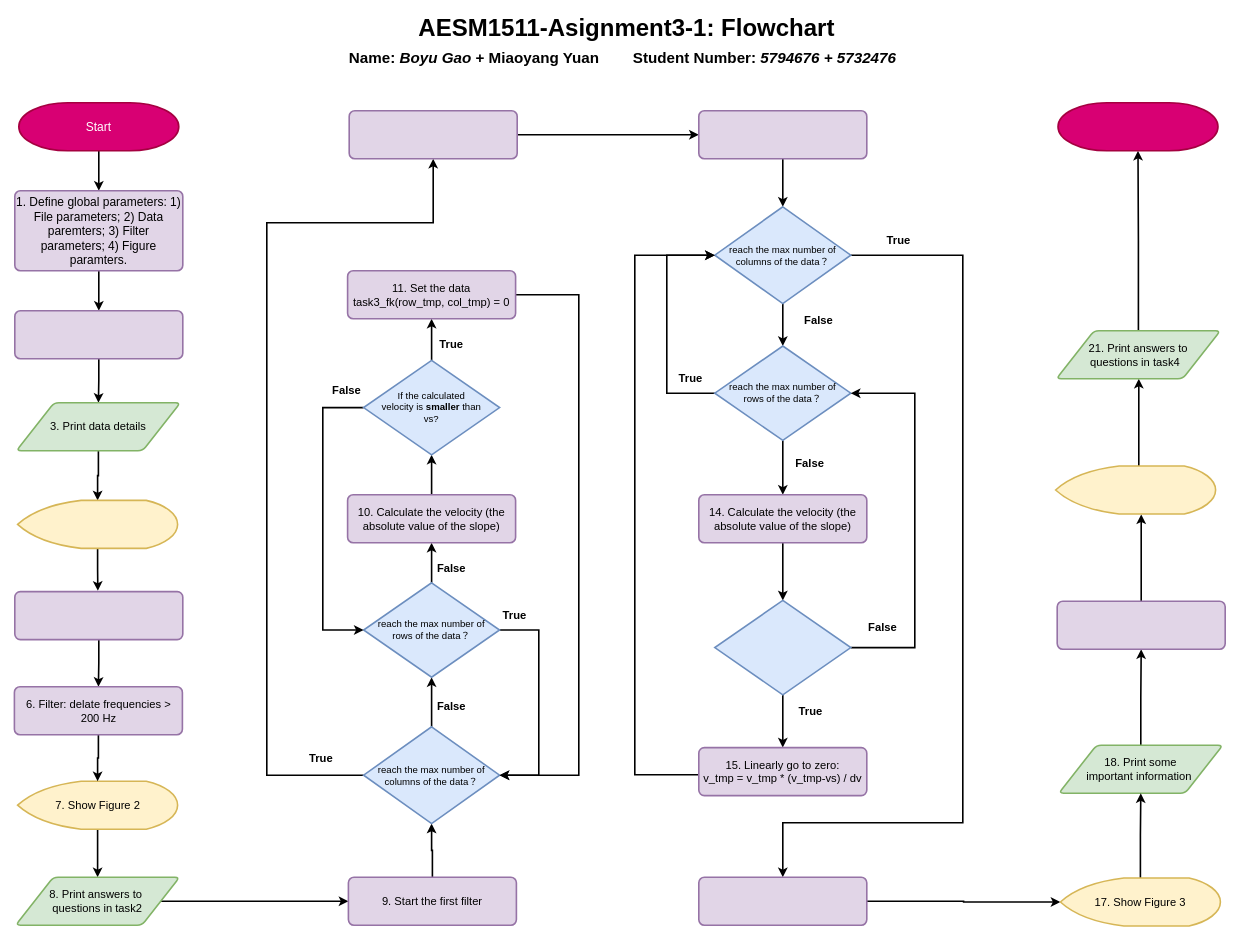
The diagram is 1240 pixels wide and 941 high, and some of its shapes have lost their labels. Each missing label, with the centre of its shape:
"12. End the first filter: Obtain the filtered data in f-k domain" goes at point 433,134.
"13. Start the second filter" goes at point 782,134.
"16. End the second filter: Obtain the final filtered data in f-k domain" goes at point 782,901.
"19. Use fft and ifft to transform back to time domain." goes at point 1141,625.
"2. Read and reshape reflection binary data" goes at point 98,334.
"20. Show Figure 4" goes at point 1135,489.
"4. Show Figure 1" goes at point 97,524.
"5. Use fft and ifft to transform the data from time domain to f-k domain" goes at point 98,615.
"End" goes at point 1137,126.
"If the calculated velocity is larger than vs and smaller than vr?" goes at point 782,647.
